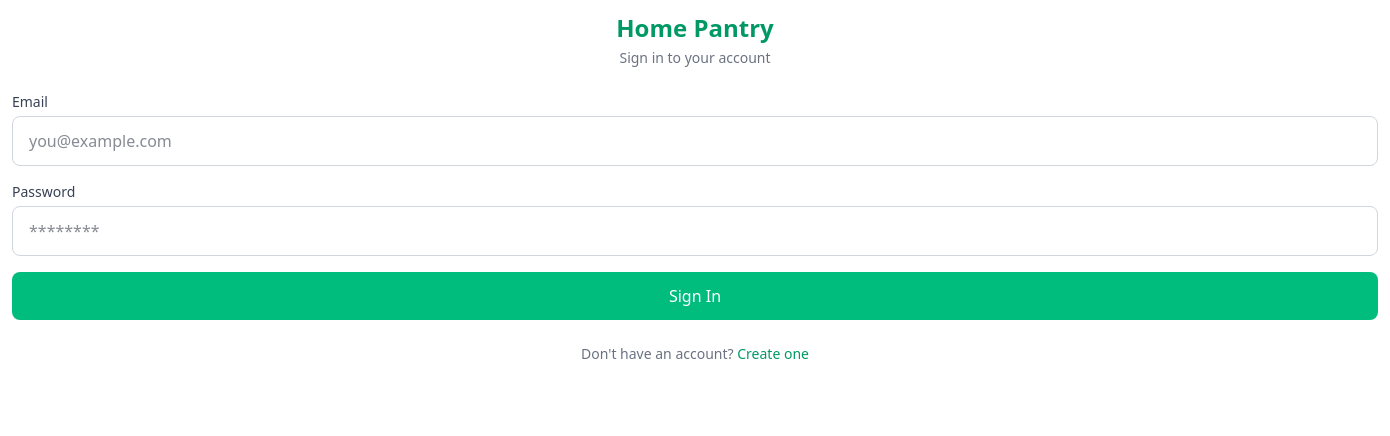
Test case: LoginPage › displays generic error message for non-Error objects
Type "test@example.com" into the field labelled "Email" at [695, 141], box x1=12 y1=116 x2=1378 y2=166
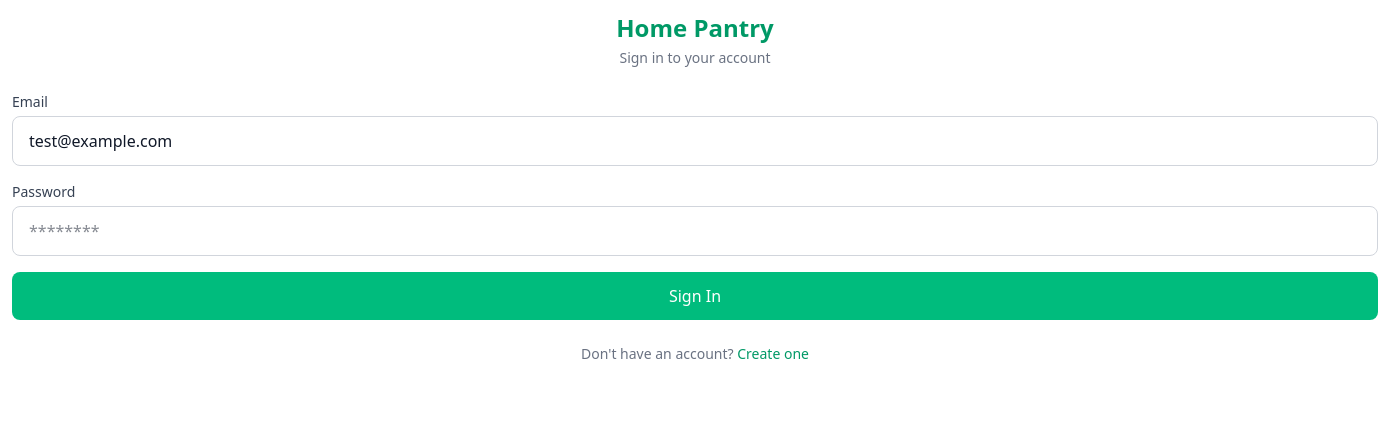
Type "wrongpassword" into the password field labelled "Password" at [695, 231], box x1=12 y1=206 x2=1378 y2=256
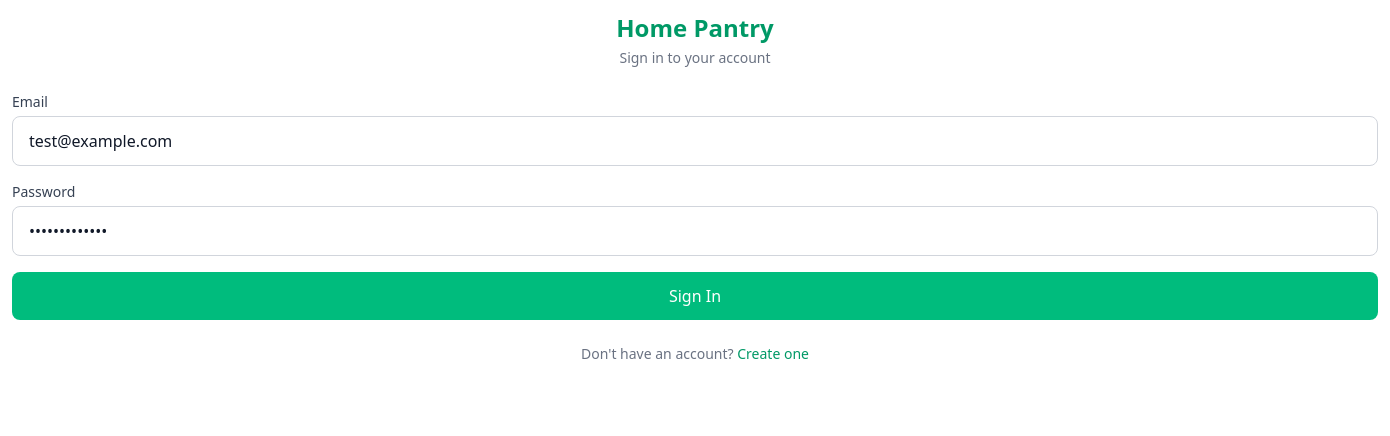
Click the button "Sign In" at [695, 296], box x1=12 y1=272 x2=1378 y2=320
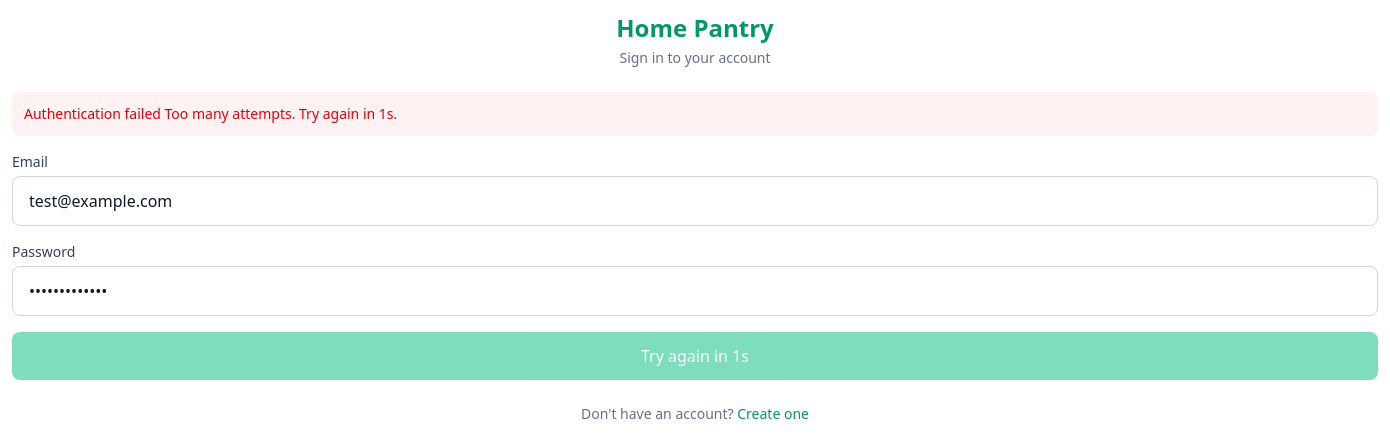
expect the text "Authentication failed Too many attempts. Try again in 1s." is shown: met, box x1=12 y1=92 x2=1378 y2=136
